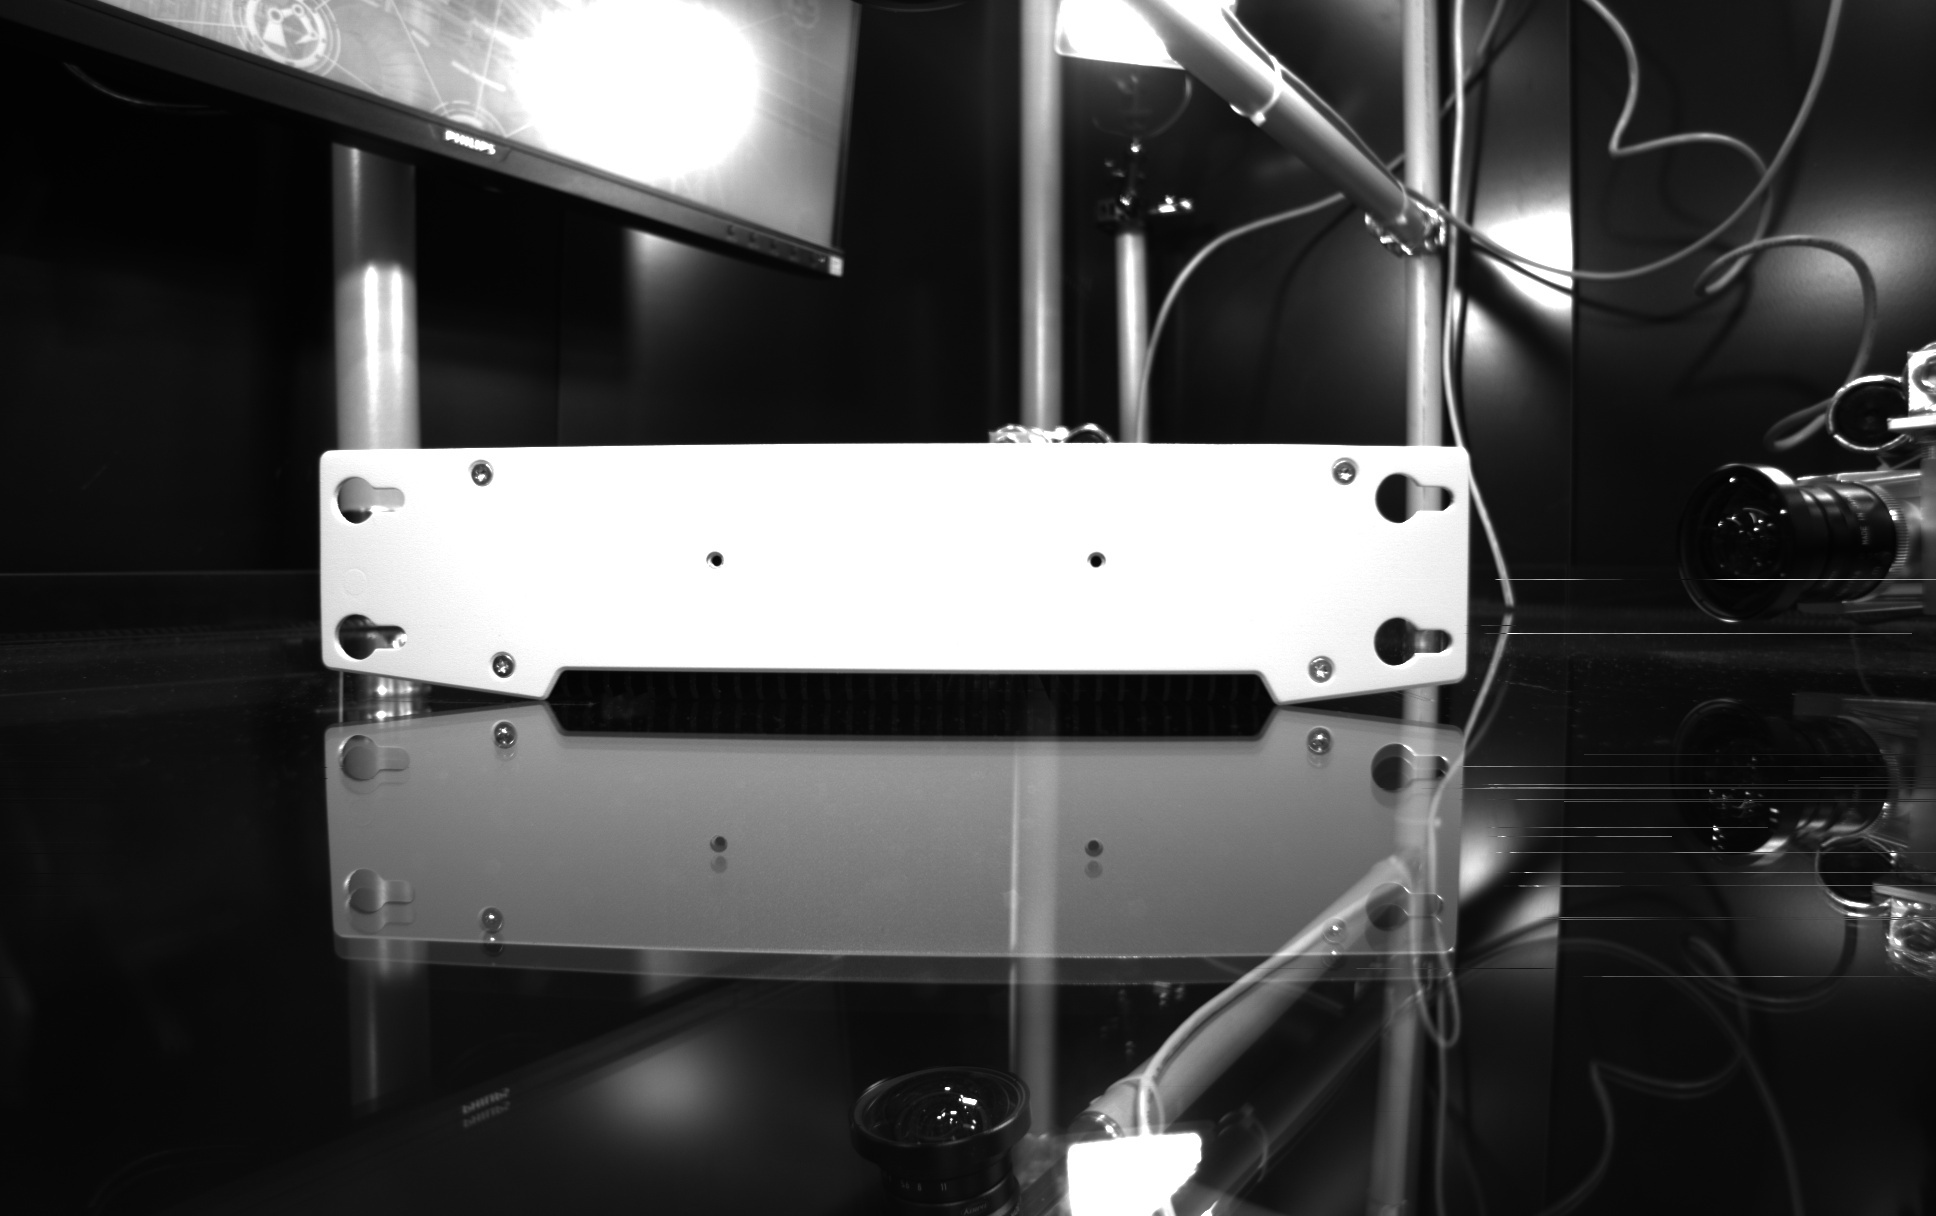CamBack: (293, 415, 1507, 712)
Schraube: (459, 454, 499, 495), (482, 644, 521, 685), (1301, 650, 1341, 691), (1325, 454, 1364, 495)
Schraube_gespiegelt: (1311, 913, 1357, 979), (469, 899, 513, 961), (1299, 720, 1338, 775), (482, 717, 520, 771)
